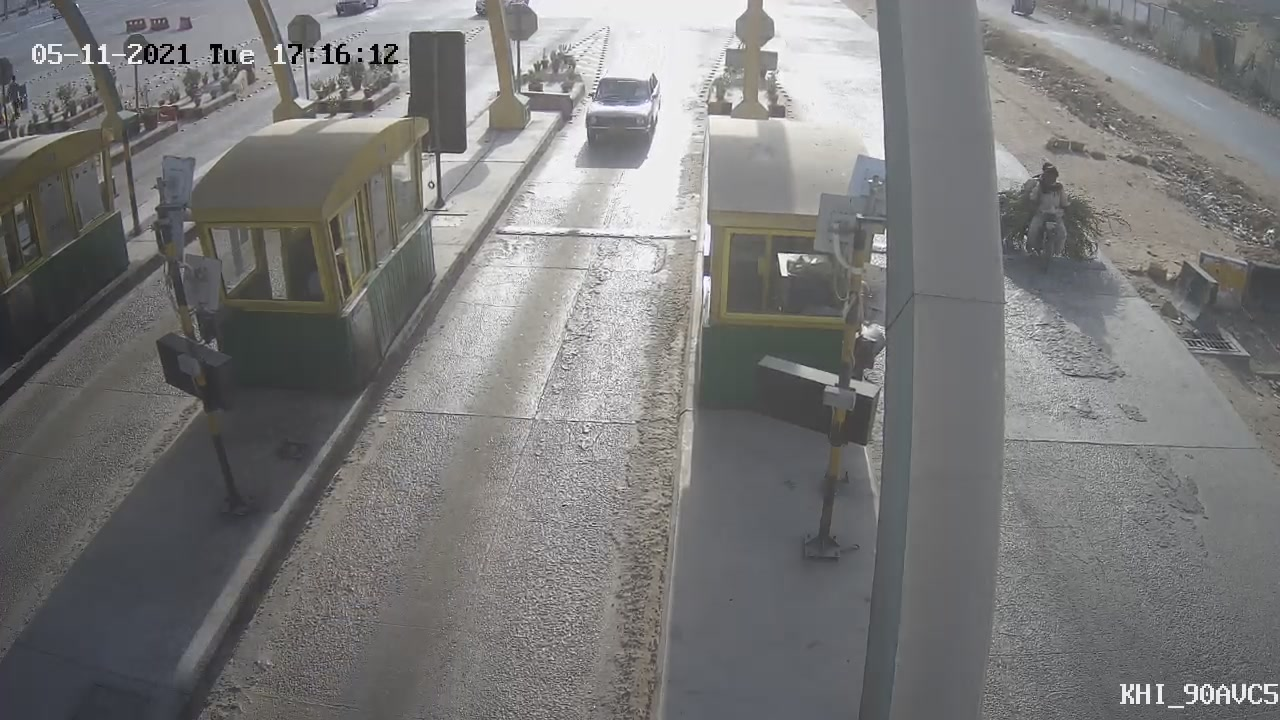F1: (568, 59, 674, 156)
